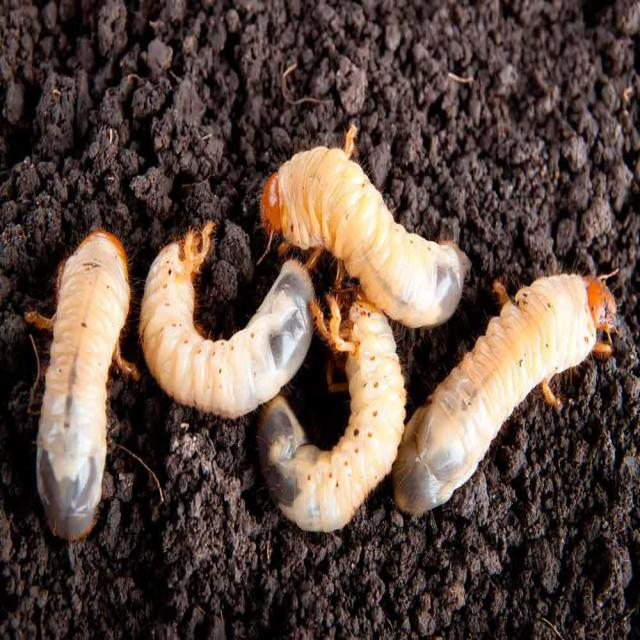Grub-Adult-: (388, 251, 630, 526), (250, 290, 422, 539), (255, 142, 476, 332), (24, 213, 144, 537), (132, 218, 321, 420)
